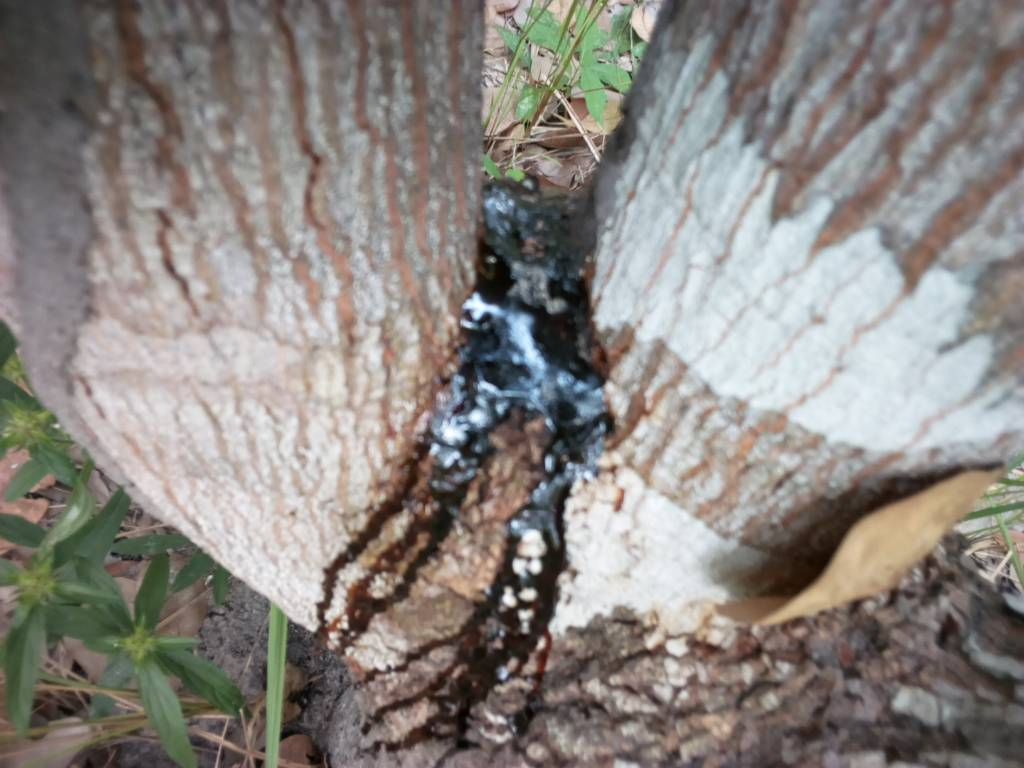Mecocorynus longiceps: (424, 136, 645, 502)
